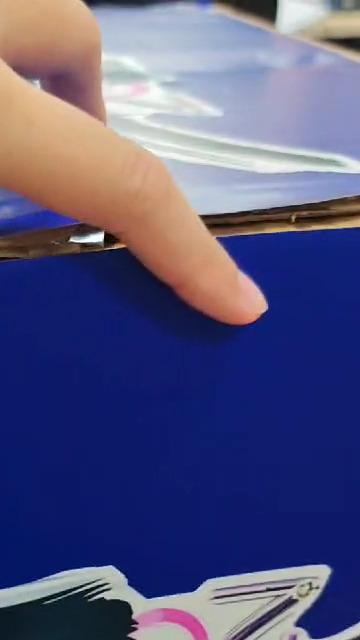B_R1: (0, 543, 359, 640)
